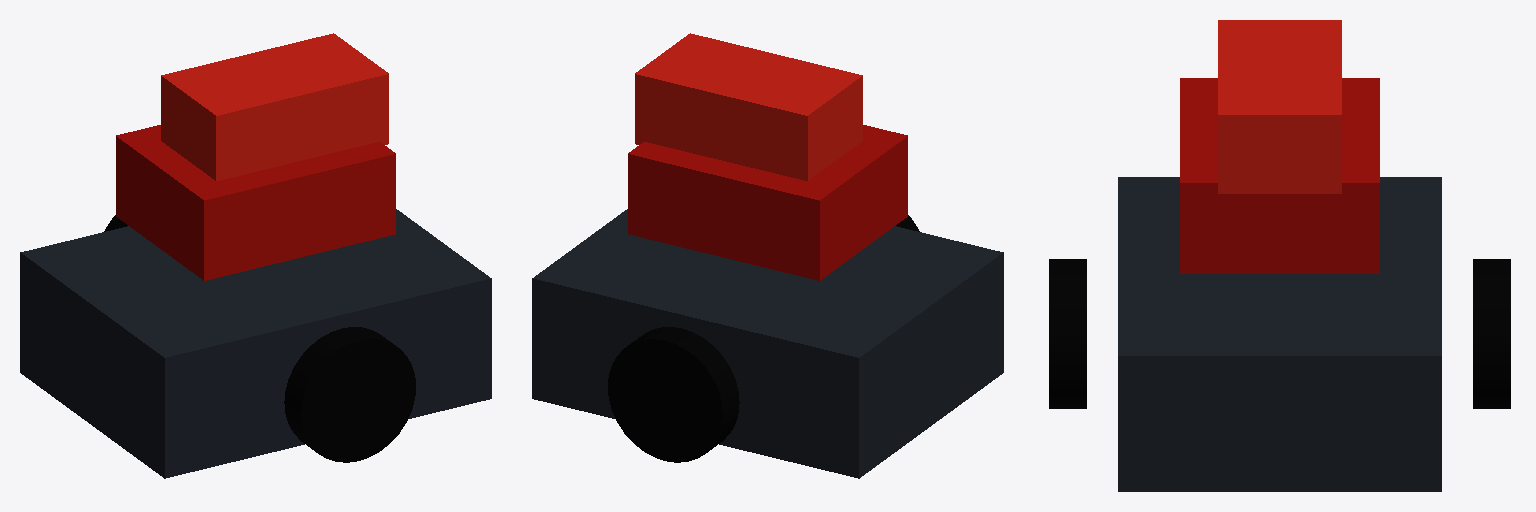
The robot description file, URDF, robot "training_diff":
<robot name="training_diff">
  <link name="base_link">
    <inertial>
      <mass value="7" />
      <inertia ixx="0.04783333333333334" iyy="0.07583333333333335" izz="0.10686666666666668" ixy="0" ixz="0" iyz="0" />
    </inertial>
    <visual>
      <geometry>
        <box size="0.34 0.26 0.12" />
      </geometry>
      <material>
        <color rgba="0.15 0.17 0.20 1" />
      </material>
    </visual>
    <collision>
      <geometry>
        <box size="0.34 0.26 0.12" />
      </geometry>
    </collision>
  </link>
  <link name="wheel_0_link">
    <inertial>
      <mass value="0.5" />
      <inertia ixx="0.0004874999999999999" iyy="0.0004874999999999999" izz="0.0009" ixy="0" ixz="0" iyz="0" />
    </inertial>
    <visual>
      <geometry>
        <cylinder radius="0.06" length="0.03" />
      </geometry>
      <material>
        <color rgba="0.04 0.04 0.04 1" />
      </material>
    </visual>
    <collision>
      <geometry>
        <cylinder radius="0.06" length="0.03" />
      </geometry>
    </collision>
  </link>
  <joint name="wheel_0_joint" type="continuous">
    <parent link="base_link" />
    <child link="wheel_0_link" />
    <origin xyz="0 0.17 0" rpy="1.5707963267948966 0 0" />
    <axis xyz="0 0 1" />
    <limit effort="8" velocity="60" />
  </joint>
  <link name="wheel_1_link">
    <inertial>
      <mass value="0.5" />
      <inertia ixx="0.0004874999999999999" iyy="0.0004874999999999999" izz="0.0009" ixy="0" ixz="0" iyz="0" />
    </inertial>
    <visual>
      <geometry>
        <cylinder radius="0.06" length="0.03" />
      </geometry>
      <material>
        <color rgba="0.04 0.04 0.04 1" />
      </material>
    </visual>
    <collision>
      <geometry>
        <cylinder radius="0.06" length="0.03" />
      </geometry>
    </collision>
  </link>
  <joint name="wheel_1_joint" type="continuous">
    <parent link="base_link" />
    <child link="wheel_1_link" />
    <origin xyz="0 -0.17 0" rpy="1.5707963267948966 0 0" />
    <axis xyz="0 0 1" />
    <limit effort="8" velocity="60" />
  </joint>
  <link name="yaw_link">
    <inertial>
      <mass value="2" />
      <inertia ixx="0.005333333333333333" iyy="0.007733333333333335" izz="0.010933333333333335" ixy="0" ixz="0" iyz="0" />
    </inertial>
    <visual>
      <geometry>
        <box size="0.2 0.16 0.08" />
      </geometry>
      <material>
        <color rgba="0.65 0.08 0.06 1" />
      </material>
    </visual>
    <collision>
      <geometry>
        <box size="0.2 0.16 0.08" />
      </geometry>
    </collision>
  </link>
  <joint name="yaw_joint" type="continuous">
    <parent link="base_link" />
    <child link="yaw_link" />
    <origin xyz="0 0 0.14" rpy="0 0 0" />
    <axis xyz="0 0 1" />
    <limit effort="12" velocity="10" />
  </joint>
  <link name="pitch_link">
    <inertial>
      <mass value="1" />
      <inertia ixx="0.001241666666666667" iyy="0.003108333333333333" izz="0.003533333333333333" ixy="0" ixz="0" iyz="0" />
    </inertial>
    <visual>
      <geometry>
        <box size="0.18 0.1 0.07" />
      </geometry>
      <material>
        <color rgba="0.8 0.15 0.1 1" />
      </material>
    </visual>
    <collision>
      <geometry>
        <box size="0.18 0.1 0.07" />
      </geometry>
    </collision>
  </link>
  <joint name="pitch_joint" type="revolute">
    <parent link="yaw_link" />
    <child link="pitch_link" />
    <origin xyz="0.02 0 0.07" rpy="0 0 0" />
    <axis xyz="0 1 0" />
    <limit effort="5" velocity="6" lower="-0.5" upper="0.7" />
  </joint>
</robot>

--- What the picture shows (computed from the rendered views, not written in the file) ---
The picture shows the robot from 3 angles, left to right: view 1: azimuth 30°, elevation 25°; view 2: azimuth 150°, elevation 25°; view 3: azimuth 270°, elevation 25°; orthographic projection.
Robot: training_diff — 5 links, 4 joints (1 revolute, 3 continuous); root link base_link; default pose: every joint at zero.
Visible links, largest first — view 1: base_link, yaw_link, pitch_link, wheel_1_link; view 2: base_link, yaw_link, pitch_link, wheel_0_link; view 3: base_link, yaw_link, pitch_link, wheel_0_link, wheel_1_link.
Boxes of the visible links, <box> form: base_link: <box>20,209,491,478</box>; yaw_link: <box>116,125,395,280</box>; pitch_link: <box>161,33,388,180</box>; wheel_1_link: <box>284,327,415,462</box>; base_link: <box>532,209,1003,478</box>; yaw_link: <box>628,125,907,280</box>; pitch_link: <box>635,33,862,180</box>; wheel_0_link: <box>608,327,739,462</box>; base_link: <box>1118,177,1441,491</box>; yaw_link: <box>1180,78,1379,273</box>; pitch_link: <box>1218,20,1341,193</box>; wheel_0_link: <box>1473,259,1510,408</box>; wheel_1_link: <box>1049,259,1086,408</box>.
Size in the robot's own frame: 0.34 by 0.37 by 0.305 metres.
Geometry: primitives only (box / cylinder / sphere), no mesh files.
